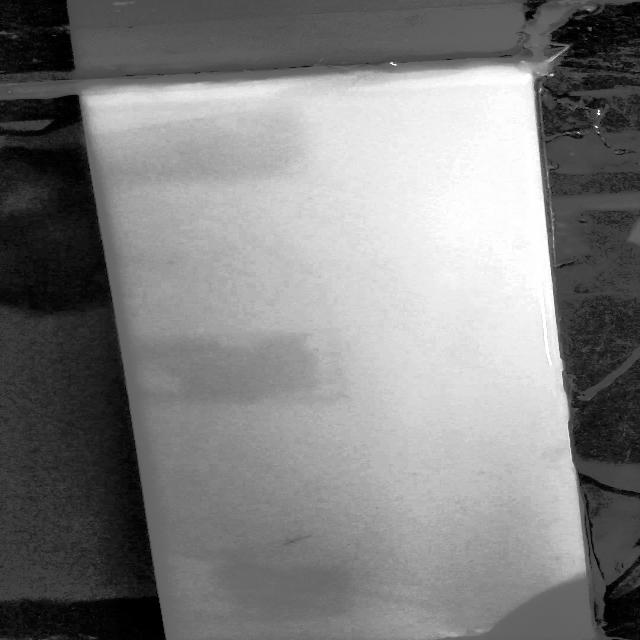shrimp: (269, 530, 326, 548)
